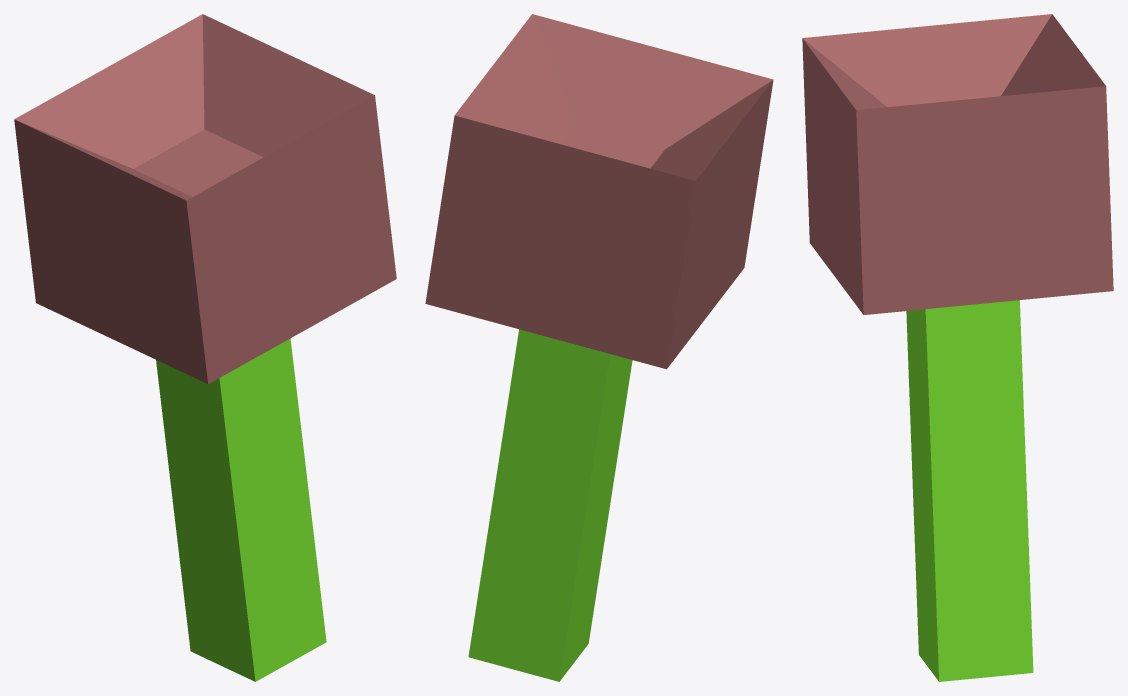
File: tulip_ungu.fbx
3 views of the same model, side by side, from view 1: azimuth 30°, elevation 25°; view 2: azimuth 150°, elevation 25°; view 3: azimuth 270°, elevation 25° (orthographic).
Parts seen in each view (by area): view 1: Cube.079; view 2: Cube.079; view 3: Cube.079.
Part boxes in pixels (x1=…): Cube.079: x1=14, y1=14, x2=396, y2=681; Cube.079: x1=425, y1=14, x2=773, y2=681; Cube.079: x1=802, y1=14, x2=1113, y2=681.
Bounding box in the file's own units: 25.65 × 50.12 × 24.02.
Materials: 1 (1 with a texture image).
